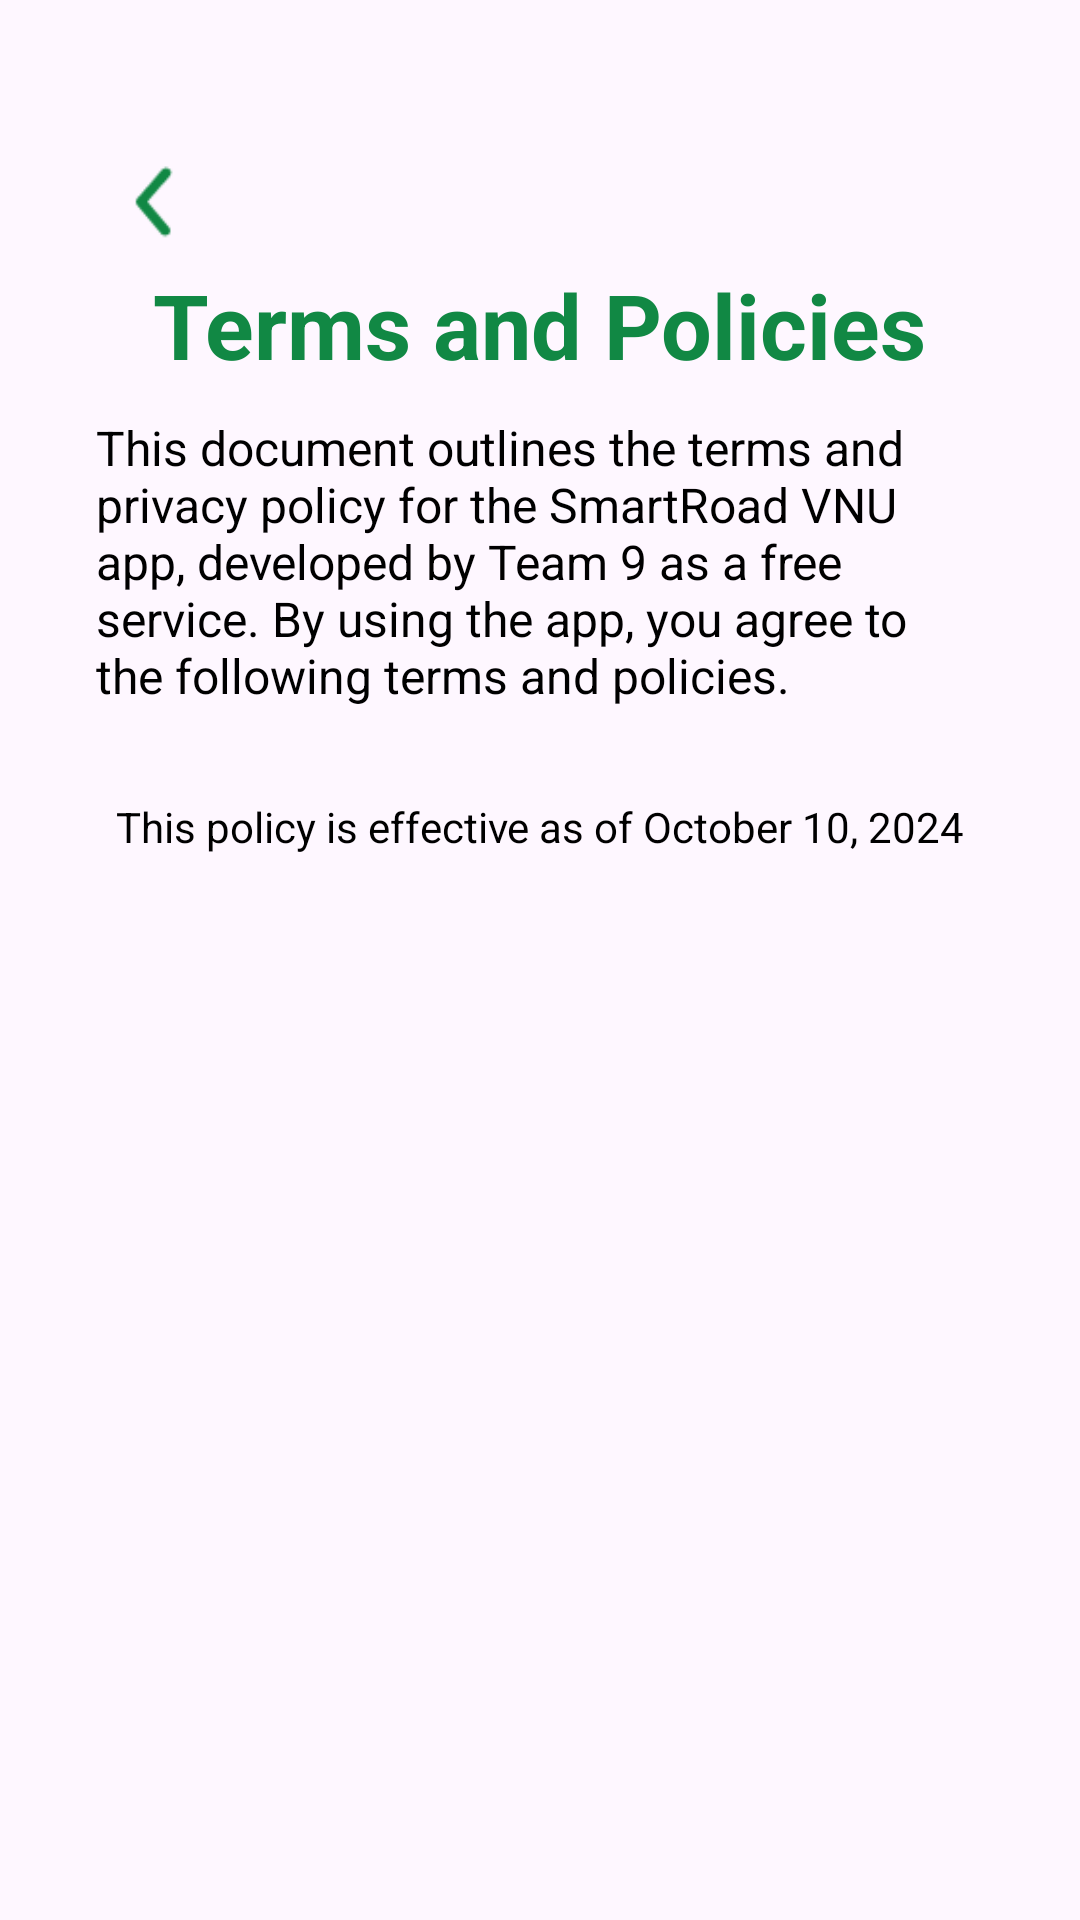

Icons on this 1080 x 1920 Android screen, each with the point to tap as [x,y]:
Back: [154,201]
